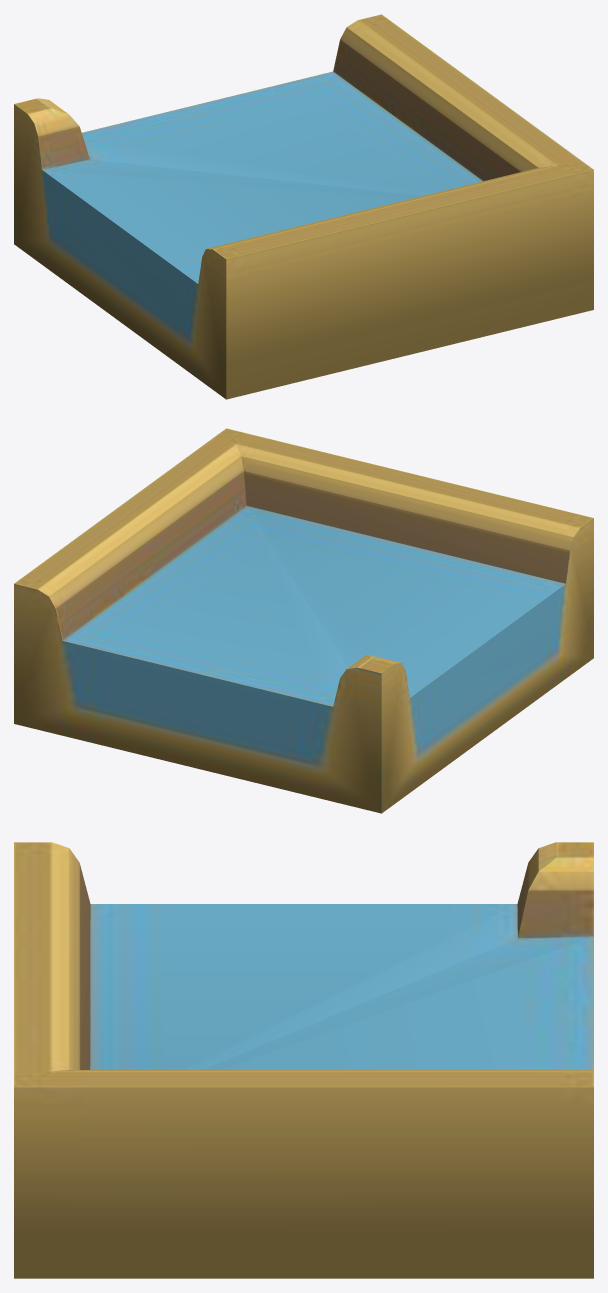
Rendered from creek_corner.glb.
3 renders of one model, top to bottom at view 1: azimuth 30°, elevation 25°; view 2: azimuth 150°, elevation 25°; view 3: azimuth 270°, elevation 25°, orthographic. The views are drawn at different scales.
Visible parts, largest first — view 1: creek_corner; view 2: creek_corner; view 3: creek_corner.
Boxes of the visible parts, bbox=[...] form: creek_corner: bbox=[14, 14, 593, 399]; creek_corner: bbox=[14, 428, 593, 813]; creek_corner: bbox=[14, 842, 593, 1278].
Size of the model in its own units: 2 by 0.7285 by 2.
1 material, 1 textured.
